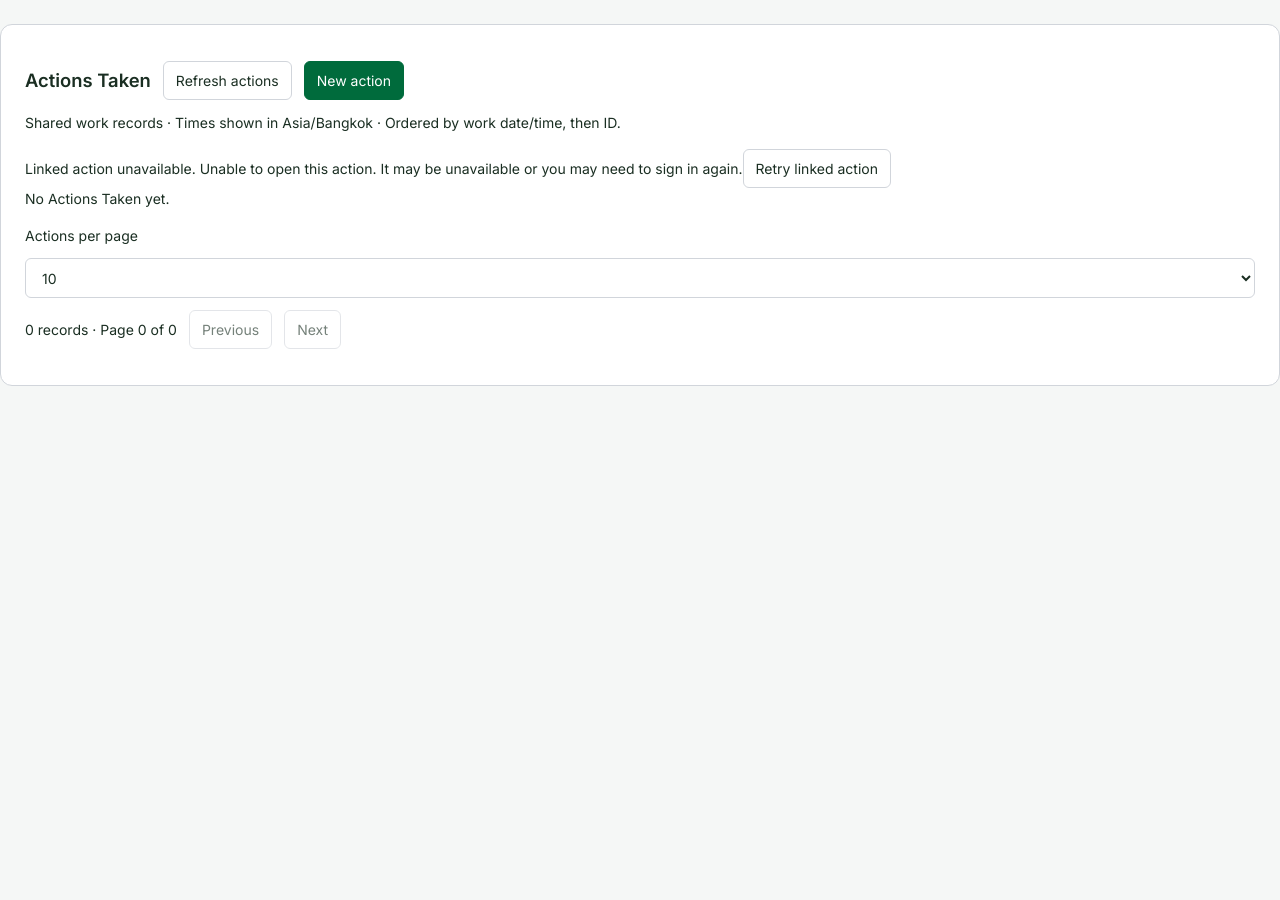
Scenario: Actions Taken interface › keeps inaccessible linked actions generic and permits an explicit retry
This screenshot has width=1280, height=900.
Expected: the message shows "Linked action unavailable", [25,160,200,177]
Click the button "Retry linked action": [817, 168] box [742,149,891,188]
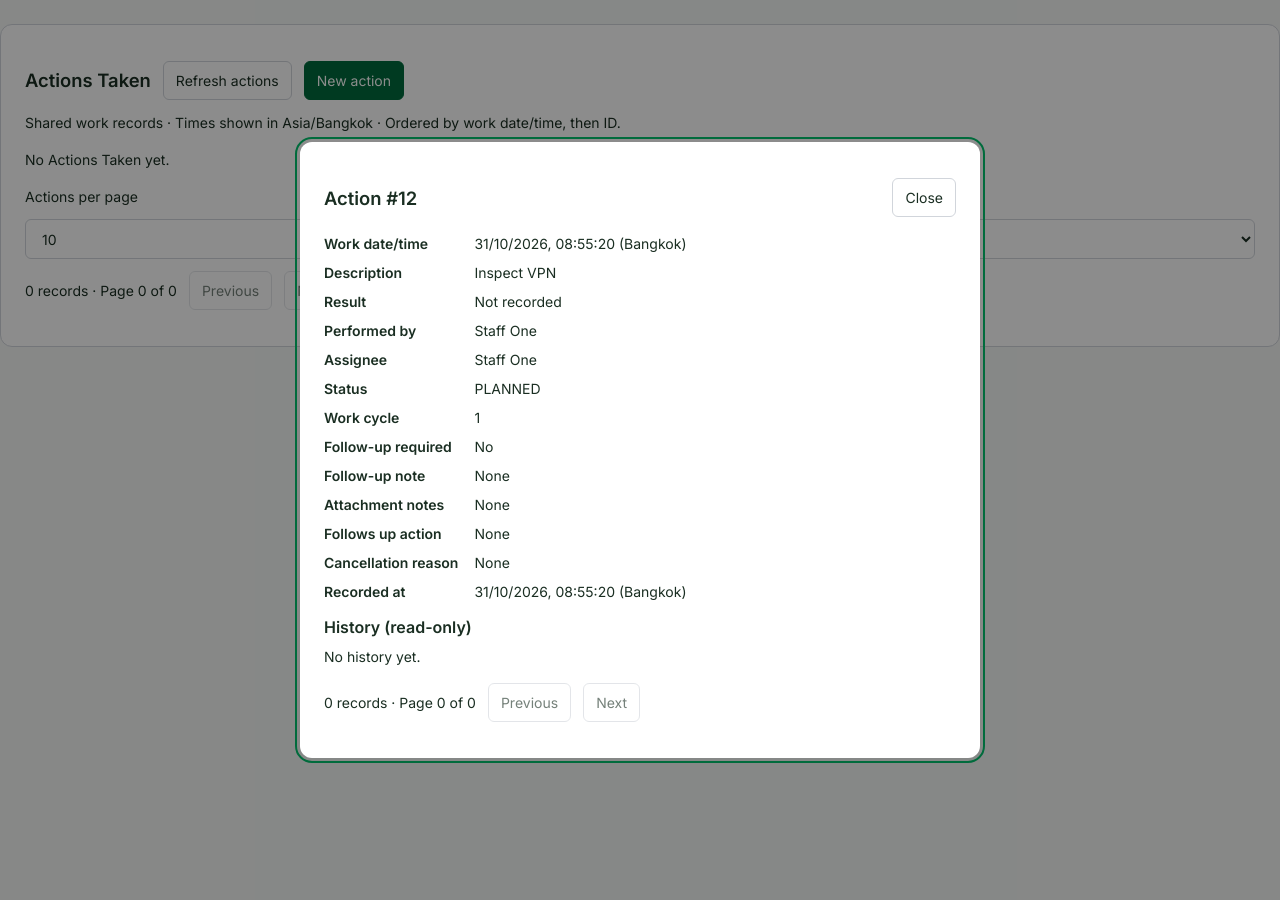
Now the dialog "Action #12" is shown, box [300,142,980,758]
